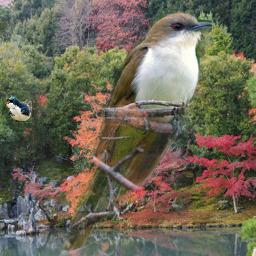Cuckoo: (58, 8, 212, 256)
Swallow: (4, 96, 32, 123)
